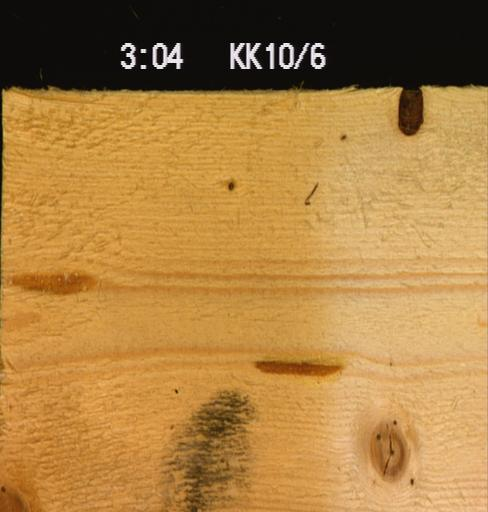edge_knot: (0, 485, 32, 511)
small_knot: (226, 179, 234, 191)
sound_knot: (367, 415, 410, 483)
